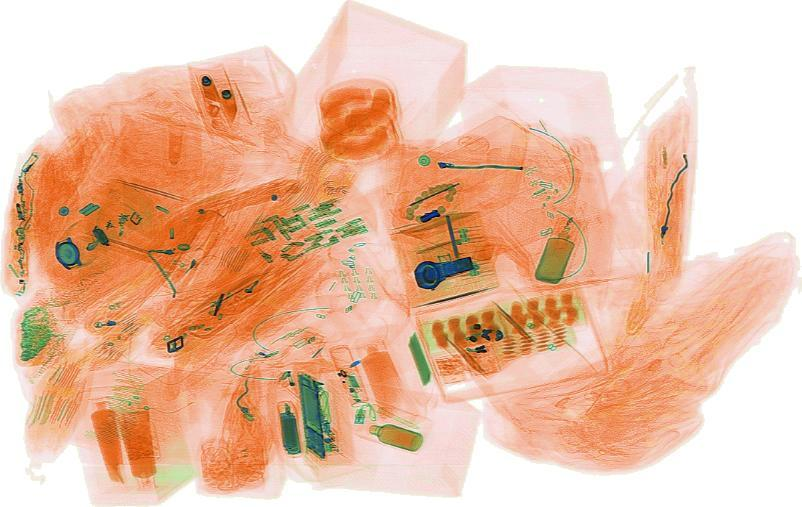suspiciousliquid1: (86, 392, 165, 487), (530, 213, 581, 287)
